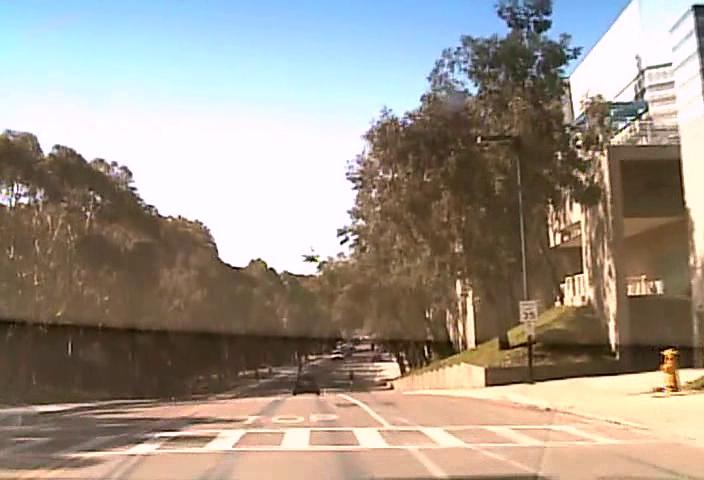speedLimit35: (518, 299, 538, 322)
